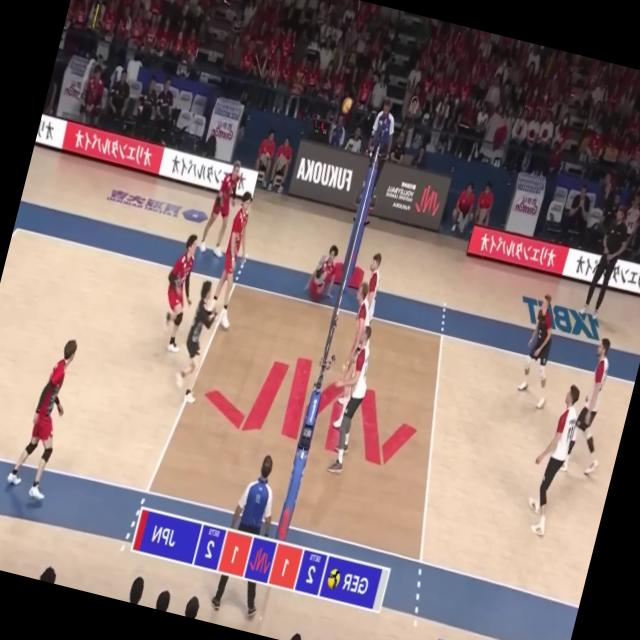referee: (208, 450, 292, 621)
team_one: (516, 380, 585, 541), (558, 334, 627, 478), (324, 326, 384, 474), (510, 290, 571, 412), (332, 283, 380, 394), (354, 250, 388, 330)
team_two: (2, 328, 83, 504), (202, 190, 260, 332), (168, 275, 226, 405), (151, 230, 206, 354), (196, 160, 246, 256), (302, 240, 342, 305)
